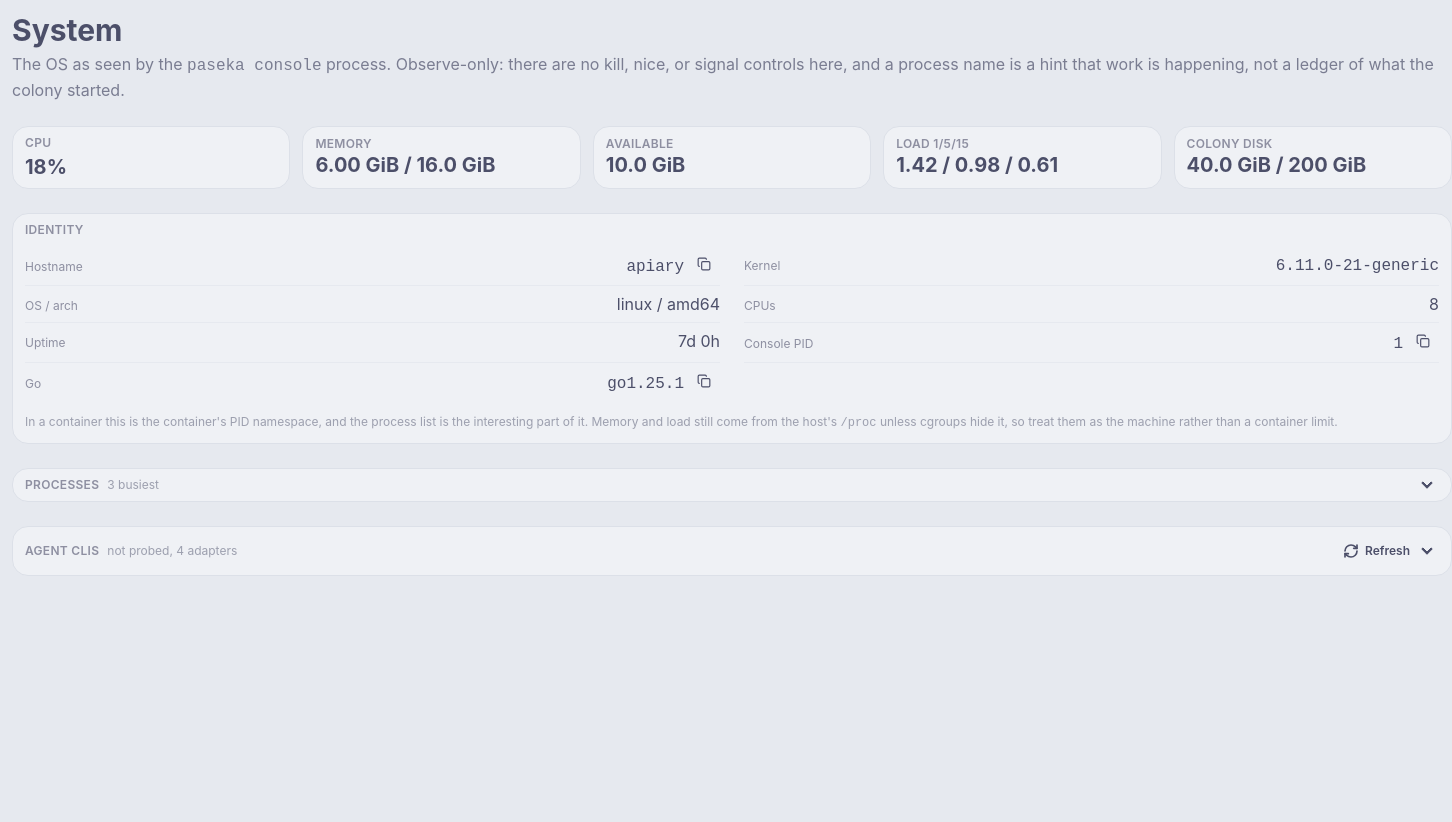
Test: agent CLIs block › says so when the probe answered with nothing
The image size is (1452, 822).
Expected: the text "Memory" is shown, [315,136,372,152]
Click the heading "Agent CLIs": (62, 550) [13,527,1451,575]
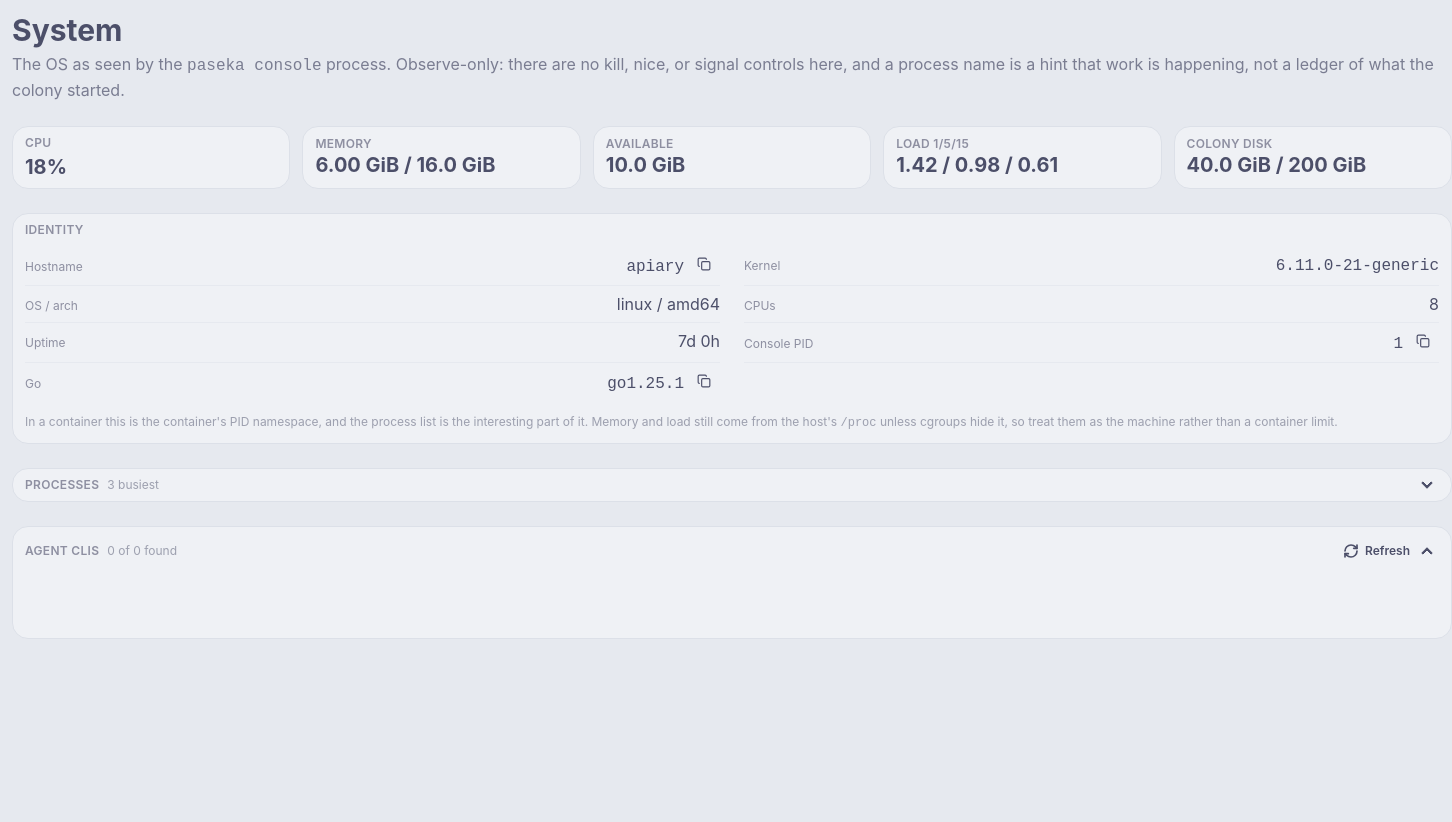
Now the text "0 of 0 found" is shown, box [107,543,177,559]
